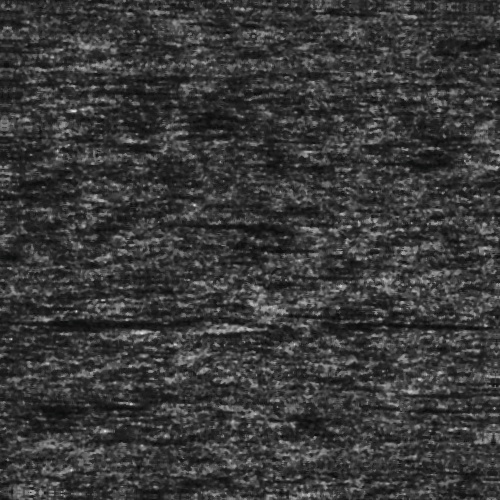object: (0, 313, 104, 328), (71, 327, 196, 336), (189, 325, 252, 330), (292, 222, 323, 229)
shadow: (0, 327, 133, 336), (16, 325, 220, 330), (354, 315, 500, 320), (209, 222, 307, 229), (0, 313, 37, 328), (462, 31, 500, 34)
